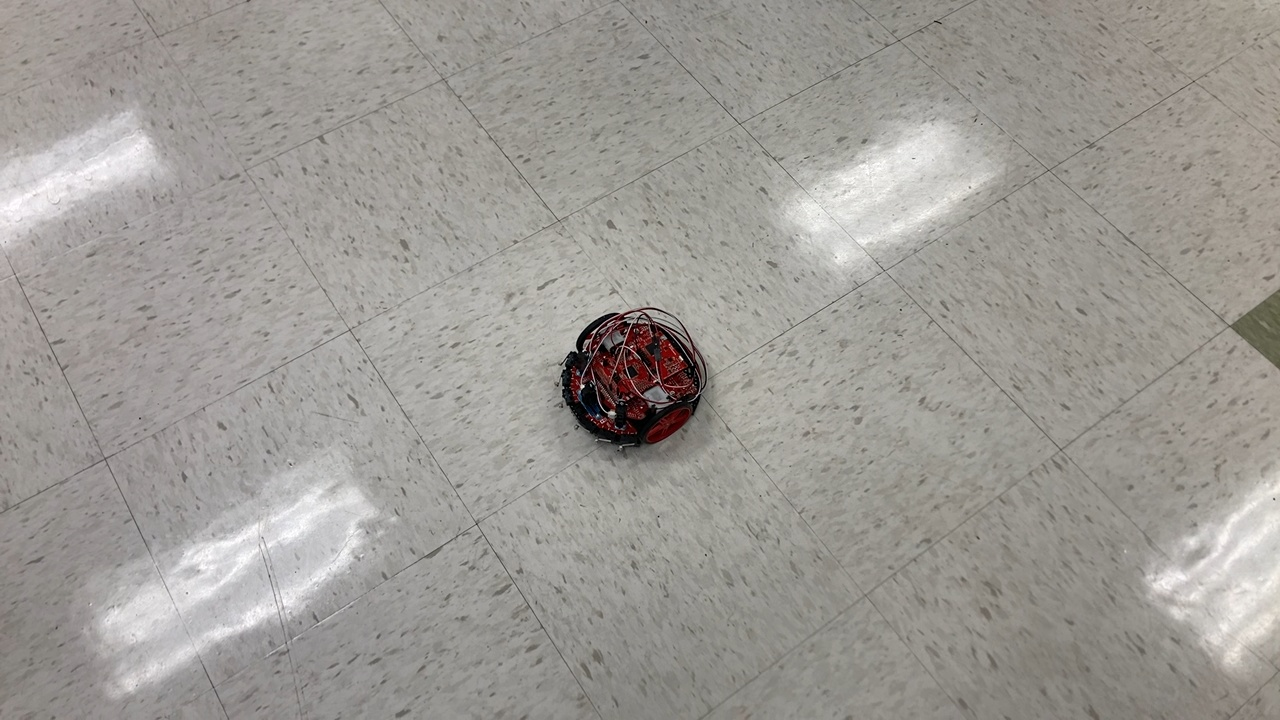robot: (549, 302, 717, 457)
